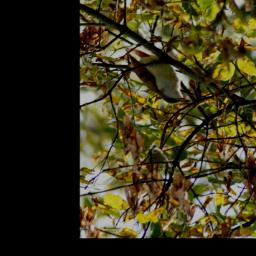Cuckoo: (118, 51, 193, 110)
